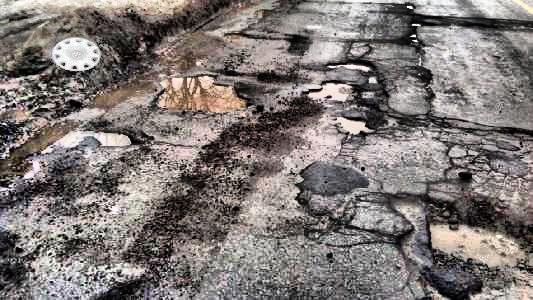pothole: (421, 191, 530, 272), (0, 100, 86, 186), (154, 73, 251, 114), (305, 77, 352, 102), (91, 127, 134, 148), (334, 113, 374, 135), (324, 58, 374, 73), (458, 20, 499, 29), (223, 30, 245, 41), (407, 32, 421, 46), (409, 20, 424, 27), (405, 3, 417, 10)
